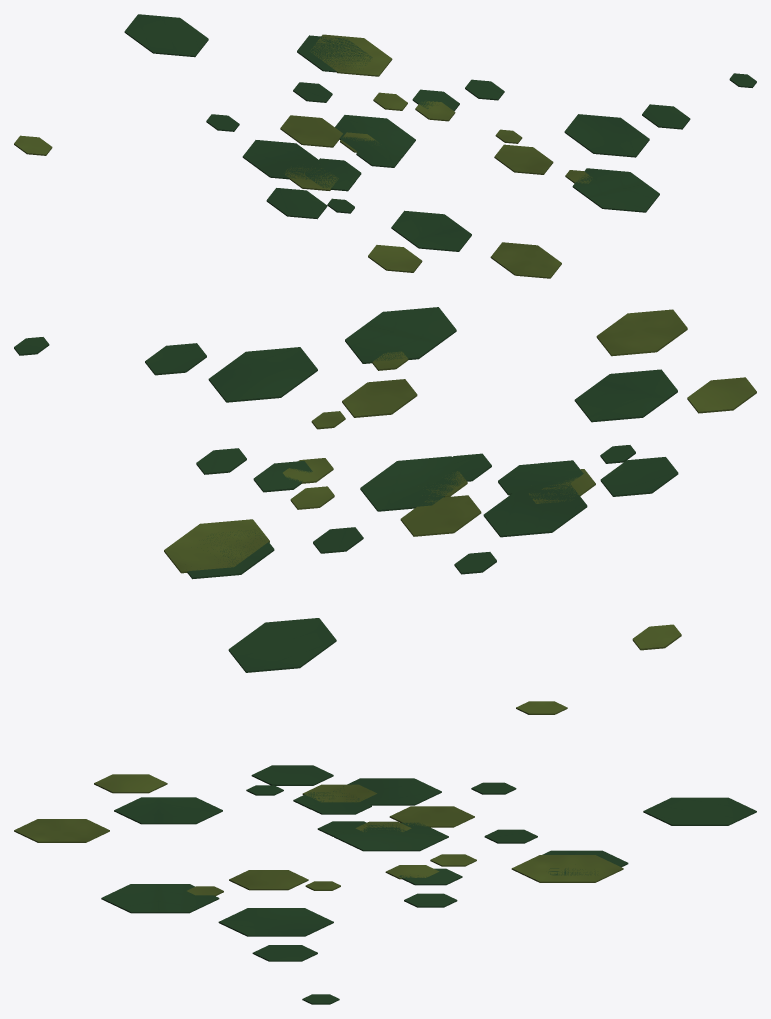
The model's file is b16_moss_patch.fbx.
The picture shows the model from 3 angles, top to bottom: view 1: azimuth 30°, elevation 25°; view 2: azimuth 150°, elevation 25°; view 3: azimuth 270°, elevation 25°; orthographic projection. The views are drawn at different scales.
Visible parts, largest first — view 1: b16_moss_patch; view 2: b16_moss_patch; view 3: b16_moss_patch.
Part boxes in pixels (bbox=[...]): b16_moss_patch: bbox=[14, 14, 756, 278]; b16_moss_patch: bbox=[14, 307, 756, 672]; b16_moss_patch: bbox=[14, 701, 756, 1004].
Size of the model in its own units: 12948 by 13468 by 25.
